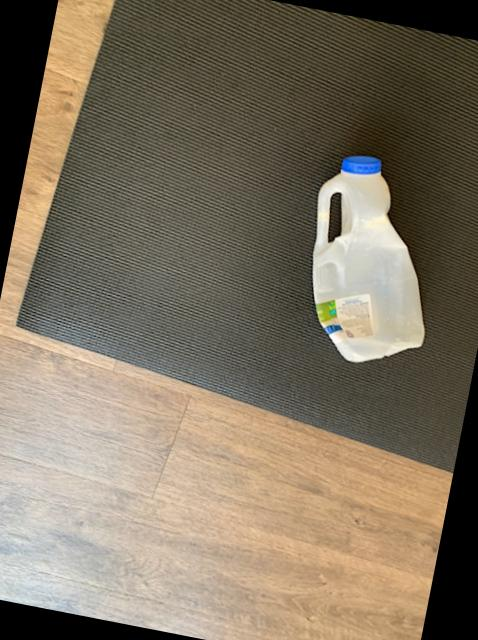plastic: (311, 157, 422, 363)
